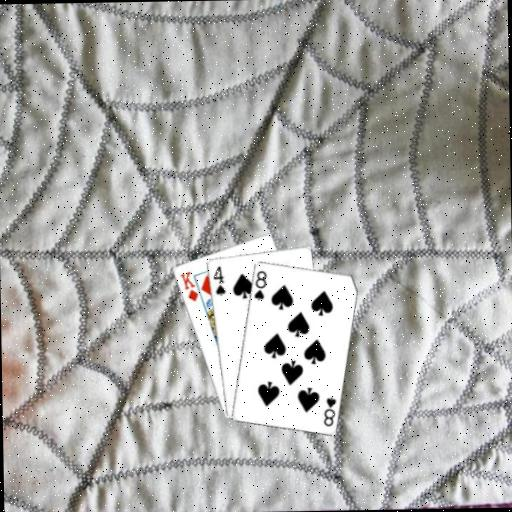4S: (210, 263, 227, 297)
8S: (319, 394, 338, 428), (251, 268, 269, 302)
KD: (176, 269, 200, 304)
